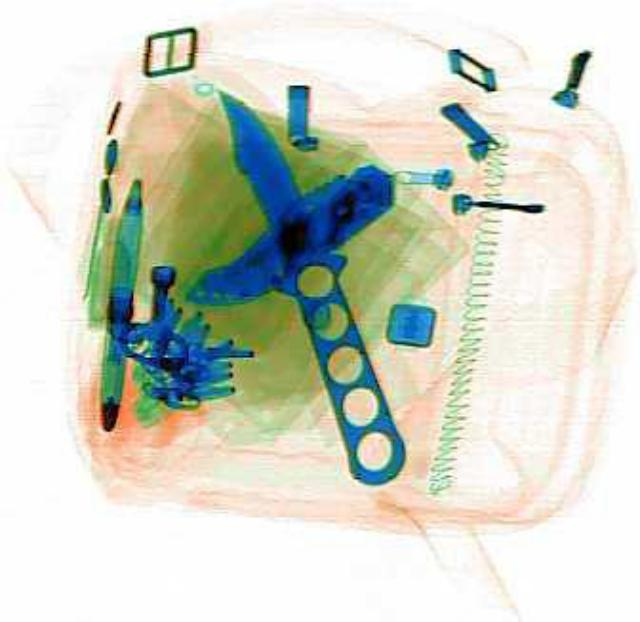Knife: (204, 75, 412, 487), (162, 148, 410, 324)
